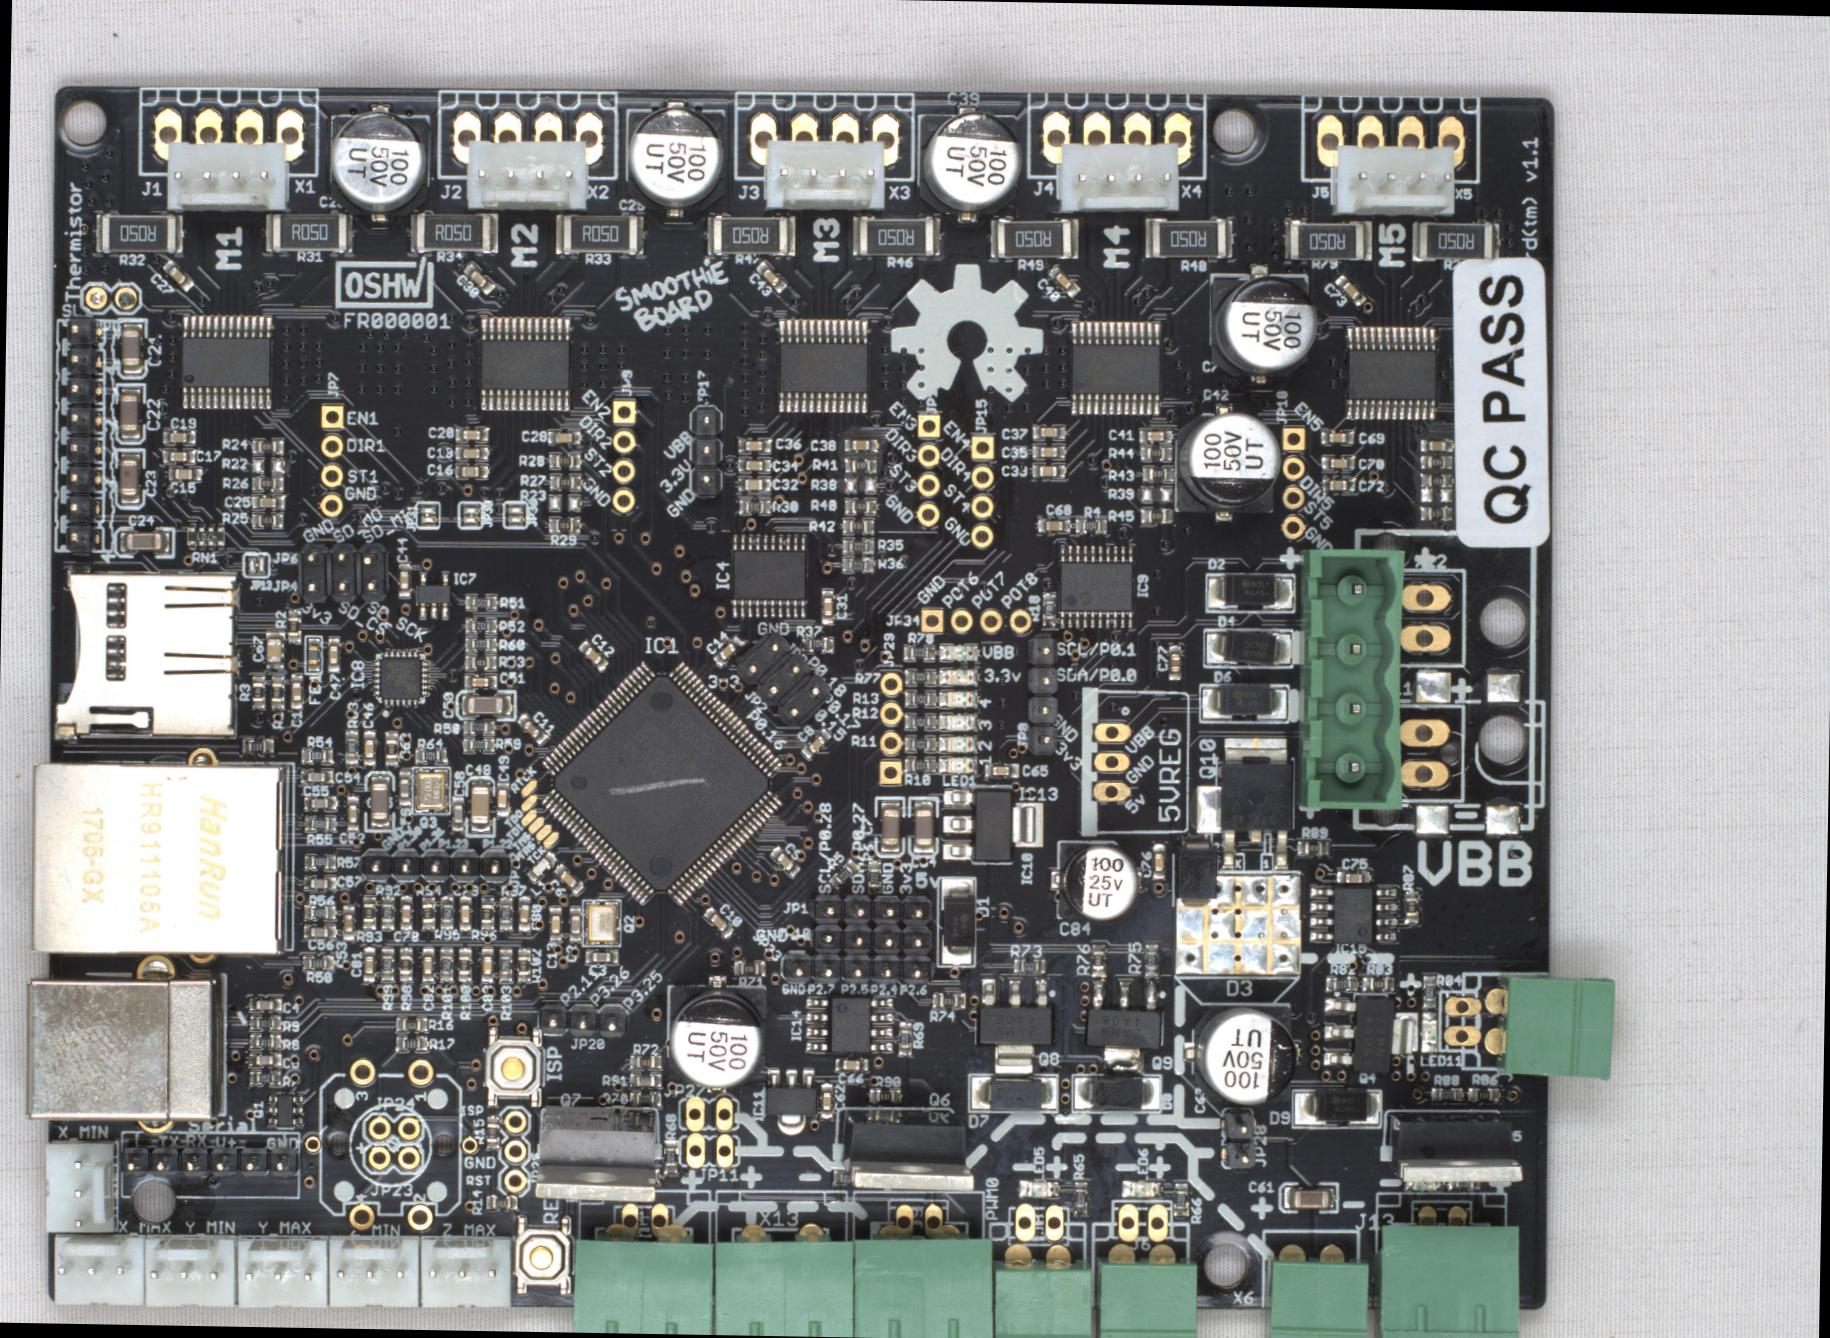Button: (480, 1026, 541, 1106), (513, 1213, 571, 1294)
Capacitor: (361, 768, 395, 832), (112, 446, 146, 508), (111, 524, 175, 557), (455, 687, 519, 720), (463, 774, 496, 838), (112, 381, 145, 445), (1279, 1180, 1341, 1213), (872, 794, 904, 858), (906, 794, 939, 855), (117, 315, 146, 379), (460, 260, 496, 295), (798, 724, 833, 760), (1046, 263, 1080, 298), (516, 710, 548, 747), (710, 632, 745, 666), (753, 259, 787, 293), (575, 638, 608, 672), (700, 905, 735, 937), (161, 259, 193, 293), (1333, 273, 1364, 307), (769, 845, 800, 876), (264, 631, 284, 668), (453, 460, 487, 479), (247, 994, 281, 1013), (1032, 422, 1066, 440), (1032, 442, 1066, 460), (161, 446, 195, 464), (1137, 426, 1172, 443), (818, 585, 834, 624), (736, 474, 770, 491), (166, 464, 200, 482), (250, 491, 284, 508), (1034, 516, 1068, 533), (453, 425, 487, 442), (547, 428, 581, 445), (737, 436, 771, 453), (161, 428, 195, 445), (1320, 452, 1354, 469), (1030, 462, 1064, 479), (463, 672, 496, 689), (985, 761, 1017, 778), (303, 922, 335, 939), (834, 1055, 867, 1072), (453, 443, 486, 460), (736, 456, 769, 473), (419, 945, 435, 980), (843, 436, 878, 452), (1321, 476, 1355, 491), (584, 947, 618, 963), (567, 903, 581, 940), (479, 946, 493, 983), (818, 1081, 833, 1118), (301, 874, 334, 889), (1320, 429, 1353, 445), (325, 635, 340, 670), (288, 672, 303, 707), (361, 729, 375, 764), (494, 780, 509, 815), (344, 794, 358, 830), (1151, 842, 1165, 878), (341, 903, 355, 939), (362, 945, 377, 980), (249, 1051, 280, 1067), (1336, 868, 1370, 882), (298, 768, 331, 783), (396, 561, 409, 597), (1168, 643, 1181, 679), (398, 893, 411, 929), (547, 903, 560, 939), (303, 794, 334, 808), (457, 896, 472, 928), (449, 795, 462, 830), (1418, 437, 1452, 450), (398, 768, 409, 805), (517, 895, 529, 929)
Clock: (580, 898, 621, 947), (411, 764, 450, 812)
Connector: (26, 743, 297, 964), (23, 953, 229, 1136), (48, 560, 242, 746), (1294, 547, 1404, 811), (1374, 1187, 1523, 1337), (855, 1202, 999, 1337), (715, 1202, 858, 1337), (574, 1200, 715, 1334), (1480, 972, 1615, 1078), (50, 318, 107, 554), (1257, 1231, 1370, 1337), (1095, 1241, 1201, 1337), (448, 105, 607, 168), (993, 1241, 1097, 1337), (1037, 107, 1196, 168), (735, 628, 831, 724), (1311, 109, 1468, 169), (745, 109, 904, 168), (151, 104, 305, 163), (762, 136, 885, 210), (165, 139, 290, 212), (1328, 143, 1455, 214), (465, 138, 588, 210), (1057, 141, 1178, 210), (1394, 702, 1465, 803), (418, 1233, 511, 1307), (234, 1234, 328, 1308), (41, 1139, 117, 1230), (53, 1231, 145, 1305), (327, 1234, 421, 1307), (144, 1233, 234, 1305), (1401, 570, 1465, 670), (122, 1145, 298, 1176), (359, 847, 510, 882), (780, 952, 933, 983), (1024, 633, 1059, 754), (808, 892, 932, 923), (810, 923, 932, 954), (1090, 716, 1132, 805), (966, 432, 996, 551), (686, 403, 723, 499), (918, 605, 1032, 635), (608, 398, 637, 516), (912, 409, 941, 527), (1277, 423, 1306, 540), (534, 1003, 628, 1037), (315, 401, 342, 517), (877, 669, 904, 785), (496, 1101, 529, 1196), (297, 540, 389, 572), (296, 571, 389, 601), (1112, 1199, 1168, 1240), (1009, 1200, 1064, 1241), (675, 1095, 739, 1131), (675, 1131, 739, 1166), (1219, 1105, 1253, 1170), (1442, 993, 1482, 1047), (80, 280, 142, 314), (359, 1109, 423, 1142), (359, 1142, 423, 1175), (341, 1199, 378, 1231), (401, 1202, 436, 1233), (345, 1054, 375, 1087), (404, 1055, 433, 1087)
Diode: (1202, 626, 1301, 669), (1195, 683, 1297, 723), (965, 1071, 1059, 1114), (933, 875, 976, 966), (1068, 1072, 1162, 1114), (1202, 571, 1294, 612), (1290, 1088, 1382, 1129), (1174, 835, 1213, 905), (1172, 1180, 1188, 1214)
Electrolytic Capacitor: (1202, 261, 1317, 384), (324, 99, 432, 222), (1172, 402, 1282, 521), (914, 107, 1024, 222), (664, 973, 764, 1095), (1181, 1004, 1300, 1106), (625, 97, 723, 219), (1047, 838, 1137, 922)
Ferrite Bead: (303, 633, 323, 673)
IC: (537, 659, 783, 909), (178, 308, 273, 409), (476, 314, 571, 410), (1344, 322, 1438, 420), (776, 317, 870, 412), (1067, 318, 1159, 415), (938, 783, 1041, 865), (1054, 543, 1134, 631), (729, 531, 807, 615), (803, 994, 894, 1054), (1309, 883, 1397, 943), (762, 1064, 817, 1136), (371, 646, 429, 706), (412, 568, 448, 619)
Inductor: (524, 848, 557, 881)
Led: (936, 642, 979, 662), (936, 687, 976, 707), (936, 710, 975, 730), (938, 666, 979, 685), (1419, 1011, 1438, 1053), (1120, 1179, 1161, 1197), (1017, 1179, 1059, 1197), (936, 733, 976, 751), (935, 753, 975, 770), (1405, 1177, 1444, 1190)
Pads: (1408, 666, 1523, 835), (1168, 869, 1301, 976), (240, 550, 270, 578), (500, 499, 526, 528), (413, 499, 439, 528), (456, 500, 482, 528), (1137, 483, 1172, 503), (547, 493, 581, 513), (249, 456, 284, 473), (841, 476, 877, 493), (1418, 486, 1452, 503), (527, 814, 543, 835), (519, 793, 536, 811), (534, 822, 551, 841), (541, 828, 558, 847), (519, 808, 536, 825), (520, 778, 536, 797)
Resistor Jumper: (185, 523, 224, 548)
Resistor Network: (1142, 214, 1232, 260), (554, 212, 645, 256), (989, 216, 1078, 260), (706, 213, 796, 257), (1282, 217, 1371, 260), (408, 212, 497, 253), (263, 212, 352, 253), (1411, 220, 1499, 261), (94, 212, 182, 253), (851, 216, 941, 256), (825, 856, 860, 891), (902, 687, 935, 707), (303, 851, 335, 871), (382, 730, 399, 766), (732, 957, 764, 976), (247, 1068, 280, 1087), (905, 666, 935, 686), (250, 437, 284, 455), (1041, 591, 1057, 628), (904, 712, 935, 730), (1013, 956, 1044, 974), (249, 1013, 280, 1031), (547, 473, 580, 490), (843, 497, 875, 514), (1137, 507, 1169, 524), (800, 635, 833, 652), (901, 643, 933, 660), (413, 747, 446, 764), (1296, 838, 1328, 855), (303, 903, 335, 920), (628, 1071, 661, 1088), (1142, 940, 1158, 976), (496, 946, 511, 981), (379, 946, 395, 981), (1071, 1180, 1087, 1216), (904, 733, 933, 751), (841, 555, 872, 572), (465, 653, 496, 670), (904, 754, 935, 771), (303, 814, 334, 831), (359, 893, 375, 928), (1090, 943, 1105, 977), (1421, 973, 1436, 1007), (929, 991, 963, 1007), (395, 1034, 426, 1051), (249, 1033, 280, 1050), (628, 1054, 662, 1070), (628, 1089, 659, 1106), (484, 1114, 500, 1148), (1138, 445, 1172, 460), (1418, 472, 1451, 487), (1418, 504, 1451, 520), (250, 511, 283, 527), (463, 616, 496, 632), (240, 737, 273, 753), (1401, 889, 1417, 922), (547, 452, 580, 467), (379, 895, 394, 930), (897, 1021, 911, 1057), (1141, 466, 1172, 482), (250, 474, 281, 490), (737, 499, 769, 514), (841, 517, 872, 533), (463, 594, 494, 609), (463, 719, 494, 734), (300, 747, 331, 763), (301, 954, 332, 970), (394, 1016, 425, 1031), (843, 457, 874, 473), (479, 893, 493, 928), (438, 945, 452, 979), (516, 947, 530, 981), (457, 947, 472, 981), (398, 946, 412, 980), (1074, 517, 1104, 533), (342, 731, 358, 761), (1326, 976, 1355, 991), (484, 1193, 514, 1209), (465, 636, 497, 651), (270, 675, 284, 707), (460, 737, 493, 751), (421, 896, 435, 929), (1465, 1087, 1498, 1101), (1429, 1087, 1462, 1101), (548, 517, 580, 531), (841, 538, 872, 553), (497, 898, 511, 929), (868, 1088, 899, 1102), (287, 608, 300, 642), (250, 675, 263, 709), (867, 859, 879, 893), (439, 895, 452, 929), (1363, 976, 1392, 990), (662, 1139, 675, 1172), (1419, 456, 1452, 469), (831, 1169, 852, 1185), (1446, 1179, 1479, 1189)
Test Point: (303, 1131, 323, 1155), (459, 1135, 476, 1152)
Transistor: (1188, 733, 1293, 868), (531, 1105, 661, 1197), (833, 1108, 972, 1190), (1381, 1106, 1523, 1183), (1081, 976, 1164, 1071), (1321, 991, 1418, 1072), (975, 976, 1051, 1074), (263, 1089, 303, 1126)
